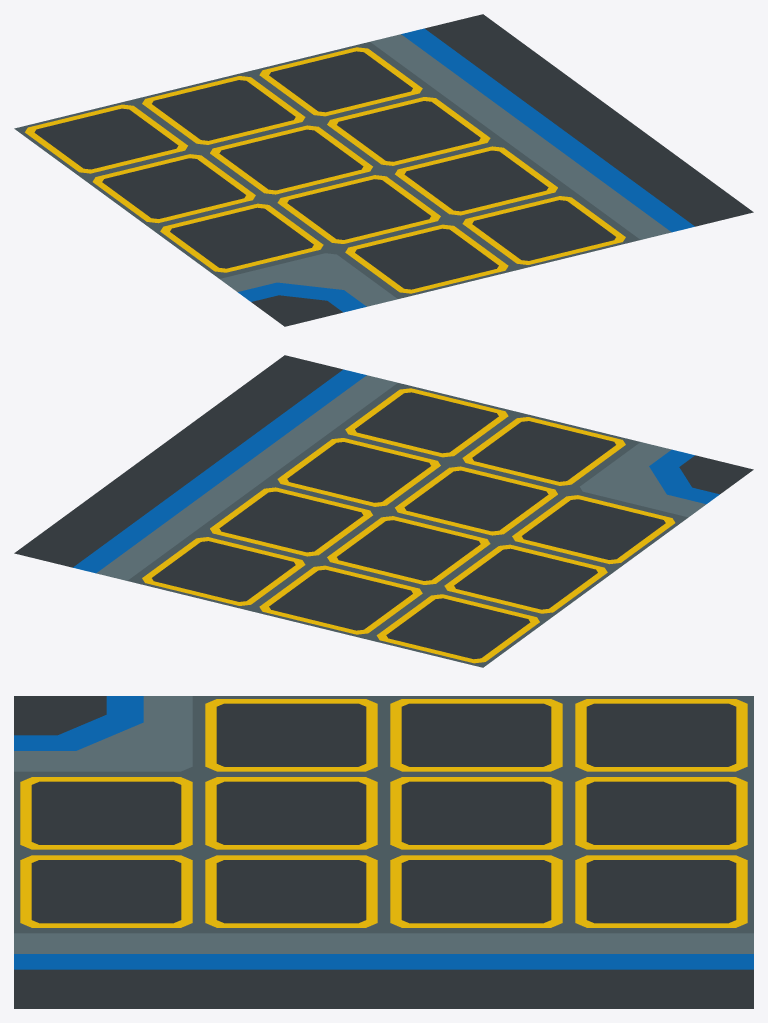
The model's file is Floor_type_C_013.fbx.
The picture shows the model from 3 angles, top to bottom: view 1: azimuth 30°, elevation 25°; view 2: azimuth 150°, elevation 25°; view 3: azimuth 270°, elevation 25°; orthographic projection. The views are drawn at different scales.
Visible parts, largest first — view 1: Floor_type_C_013; view 2: Floor_type_C_013; view 3: Floor_type_C_013.
Boxes of the visible parts, left/top/right/bottom form: Floor_type_C_013: left=14, top=14, right=753, bottom=326; Floor_type_C_013: left=14, top=355, right=753, bottom=667; Floor_type_C_013: left=14, top=696, right=753, bottom=1008.
Size of the model in its own units: 400 by 400 by 1.75e-21.
